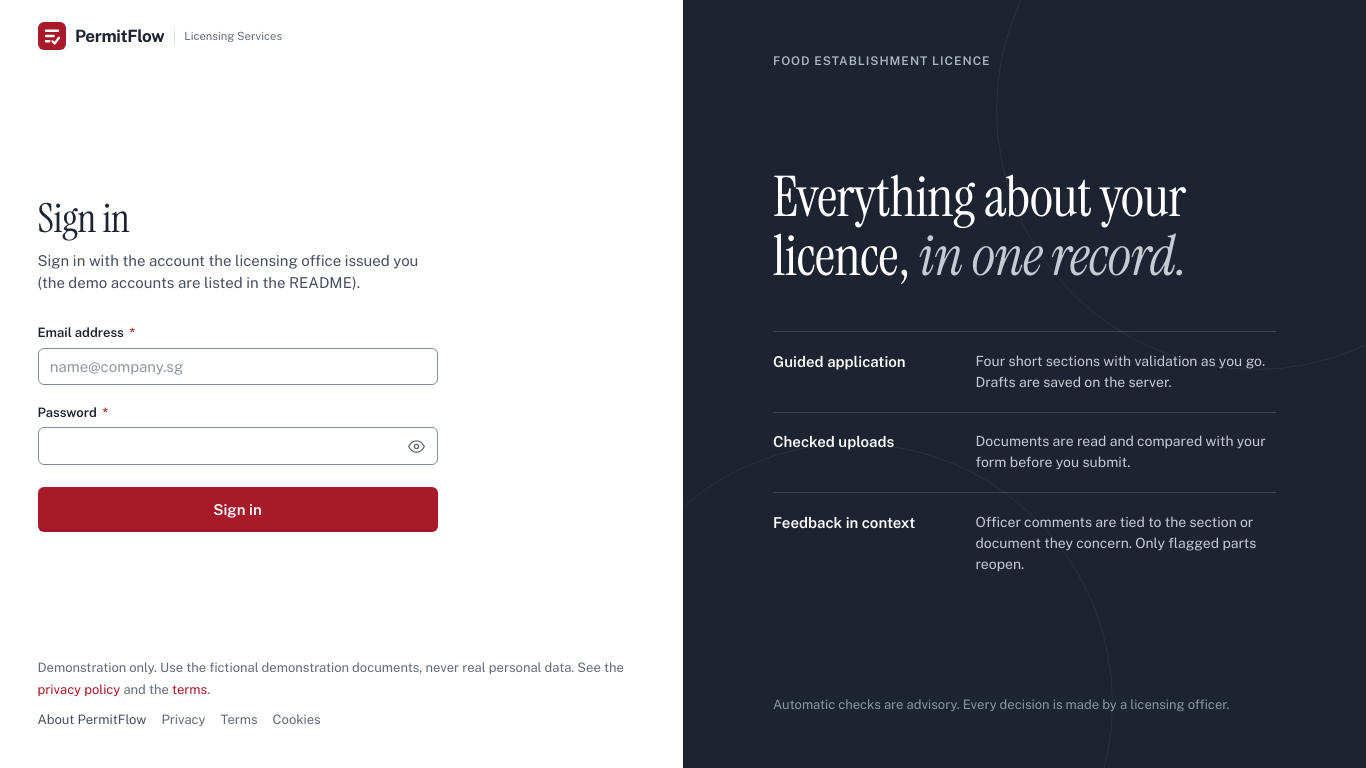
Test: LoginPage › shows and hides the password without submitting (US-046)
Step 1. Type "secret" into the password field labelled "Password *" → (238, 446), box [38, 427, 438, 465]
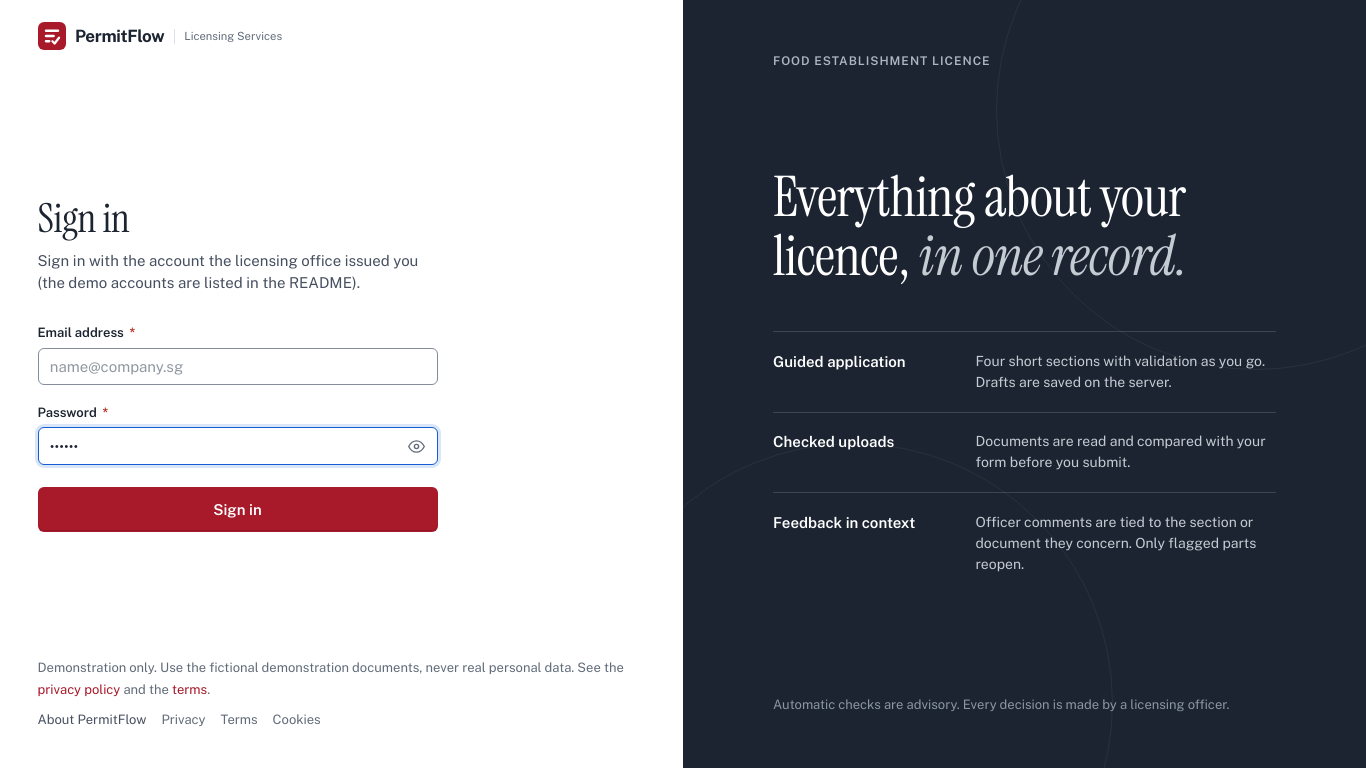
Step 2. Click the button named "Show password" → (417, 446), box [402, 431, 432, 461]
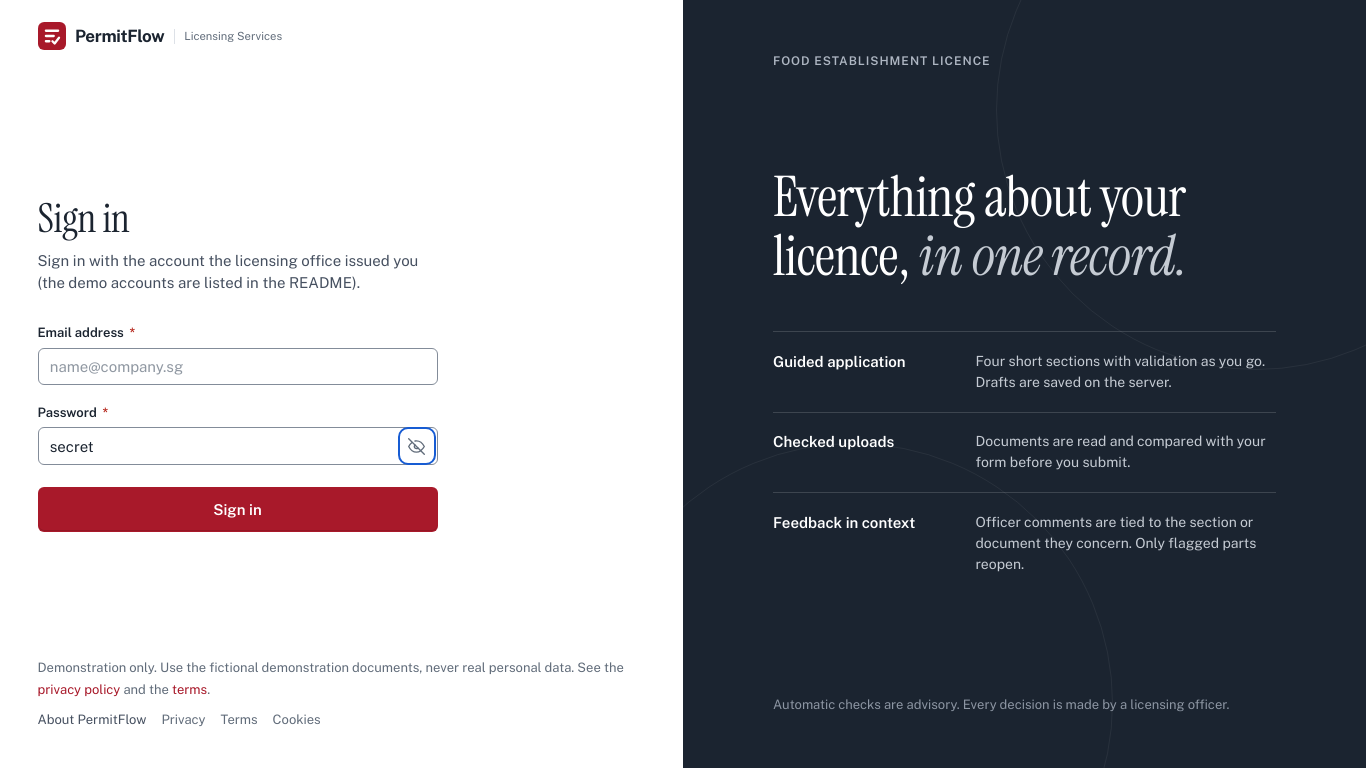
Expected: the field labelled "Password *" shows its text, [38, 427, 438, 465]
Step 3. Click the button named "Hide password" → (417, 446), box [402, 431, 432, 461]
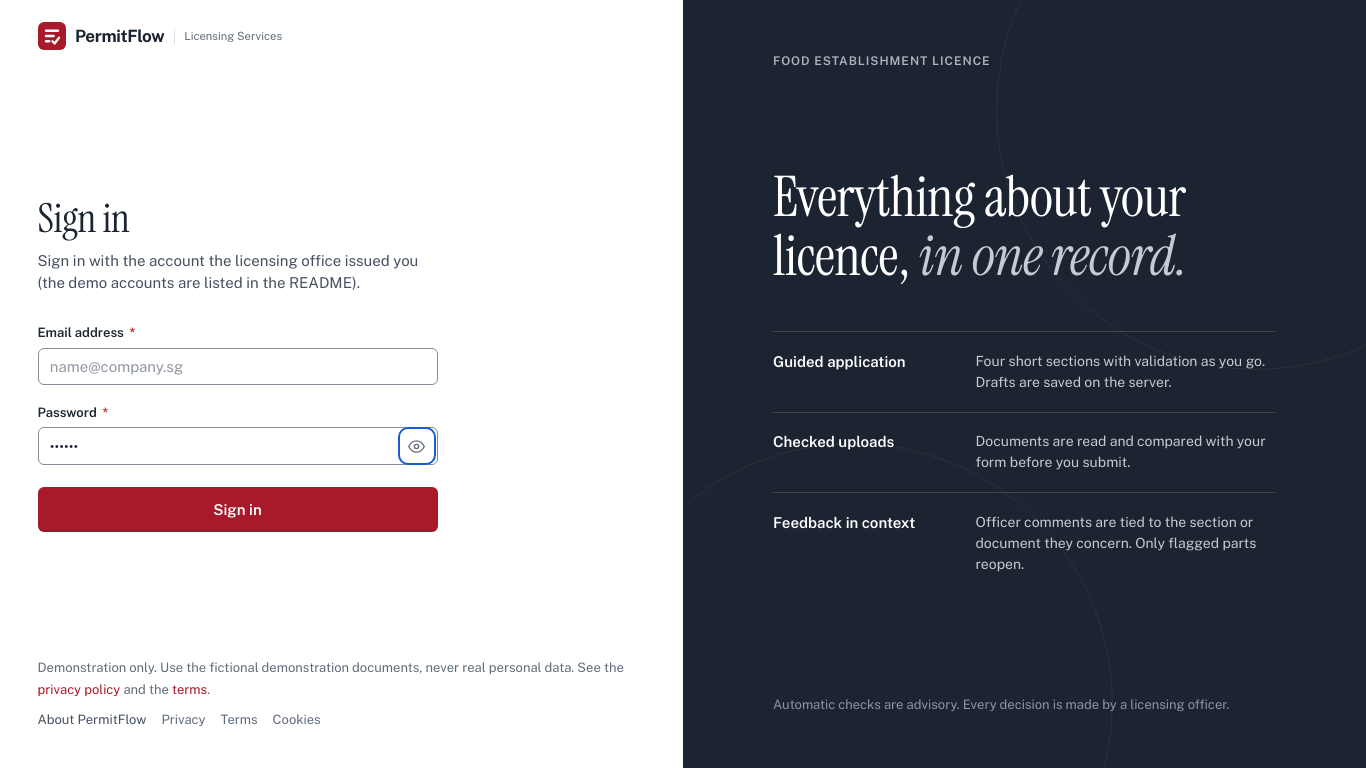
Expected: the password field labelled "Password *" hides its text, [38, 427, 438, 465]
